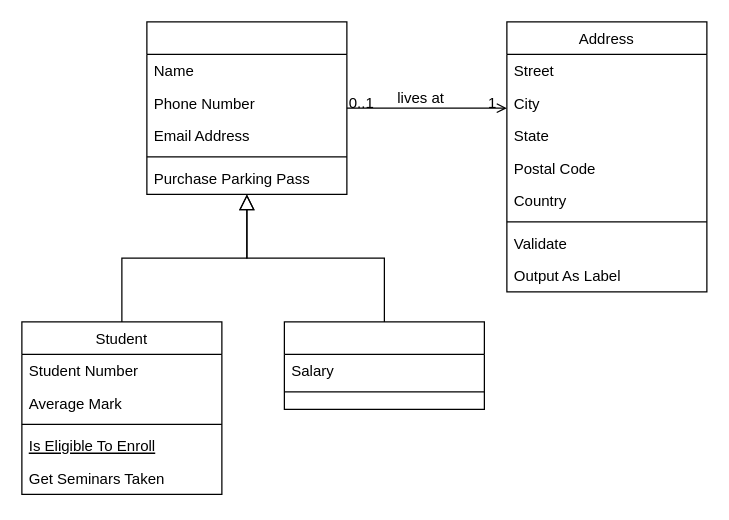
This 729x520 diagram has some shape labels left out. The box of each missing label's shape, as (x1, y1, x2, y2) in pixels:
Agent: (146, 21, 347, 194)
Professor: (283, 321, 484, 409)
